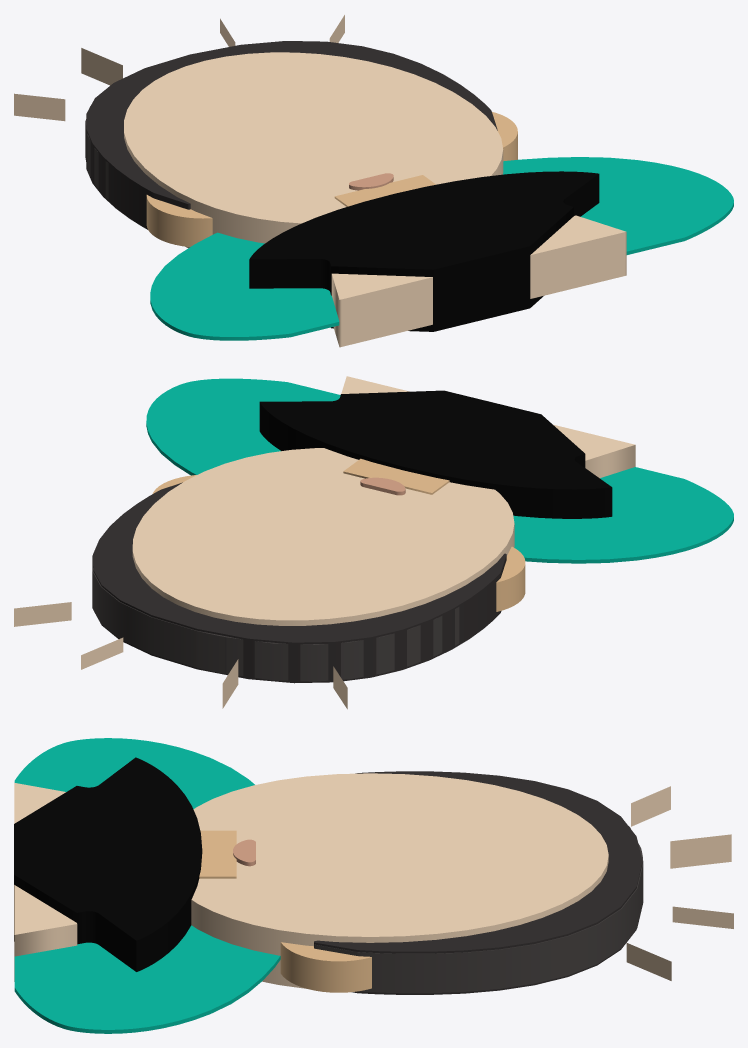
File: emoji_u1f647_1f3fb_200d_2642.glb
3 views of the same model, one above another, from view 1: azimuth 30°, elevation 25°; view 2: azimuth 150°, elevation 25°; view 3: azimuth 270°, elevation 25° (orthographic). The views are drawn at different scales.
Visible parts, largest first — view 1: emoji_u1f647_1f3fb_200d_2642; view 2: emoji_u1f647_1f3fb_200d_2642; view 3: emoji_u1f647_1f3fb_200d_2642.
Boxes of the visible parts, x1,y1,x2,y2 form: emoji_u1f647_1f3fb_200d_2642: (14,15,733,347); emoji_u1f647_1f3fb_200d_2642: (14,376,733,709); emoji_u1f647_1f3fb_200d_2642: (14,738,733,1033).
Bounding box in the file's own units: 0.0319 × 0.0034 × 0.0332.
